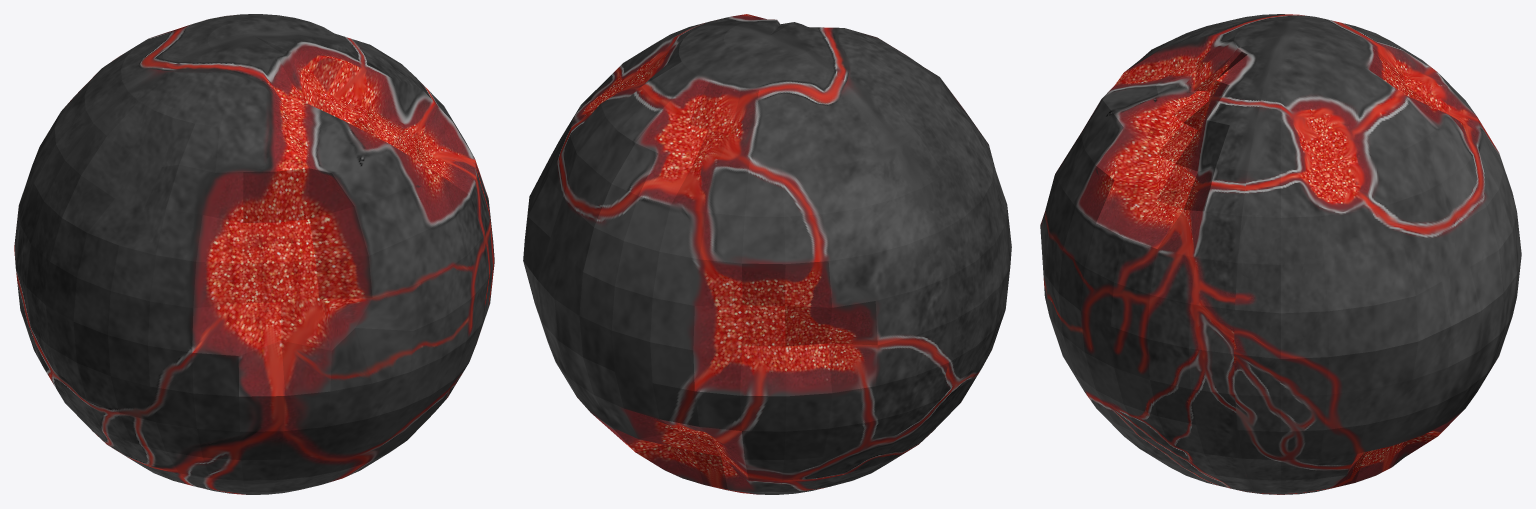
File: Asteroid3.fbx
3 renders of one model, left to right at view 1: azimuth 30°, elevation 25°; view 2: azimuth 150°, elevation 25°; view 3: azimuth 270°, elevation 25°, orthographic.
Parts seen in each view (by area): view 1: Сфера.001; view 2: Сфера.001; view 3: Сфера.001.
Part boxes in pixels (<box>): Сфера.001: <box>14,14,494,494</box>; Сфера.001: <box>523,14,1011,494</box>; Сфера.001: <box>1040,14,1521,494</box>.
Size of the model in its own units: 2.03 by 2 by 2.
Materials: 1 (1 with a texture image).
